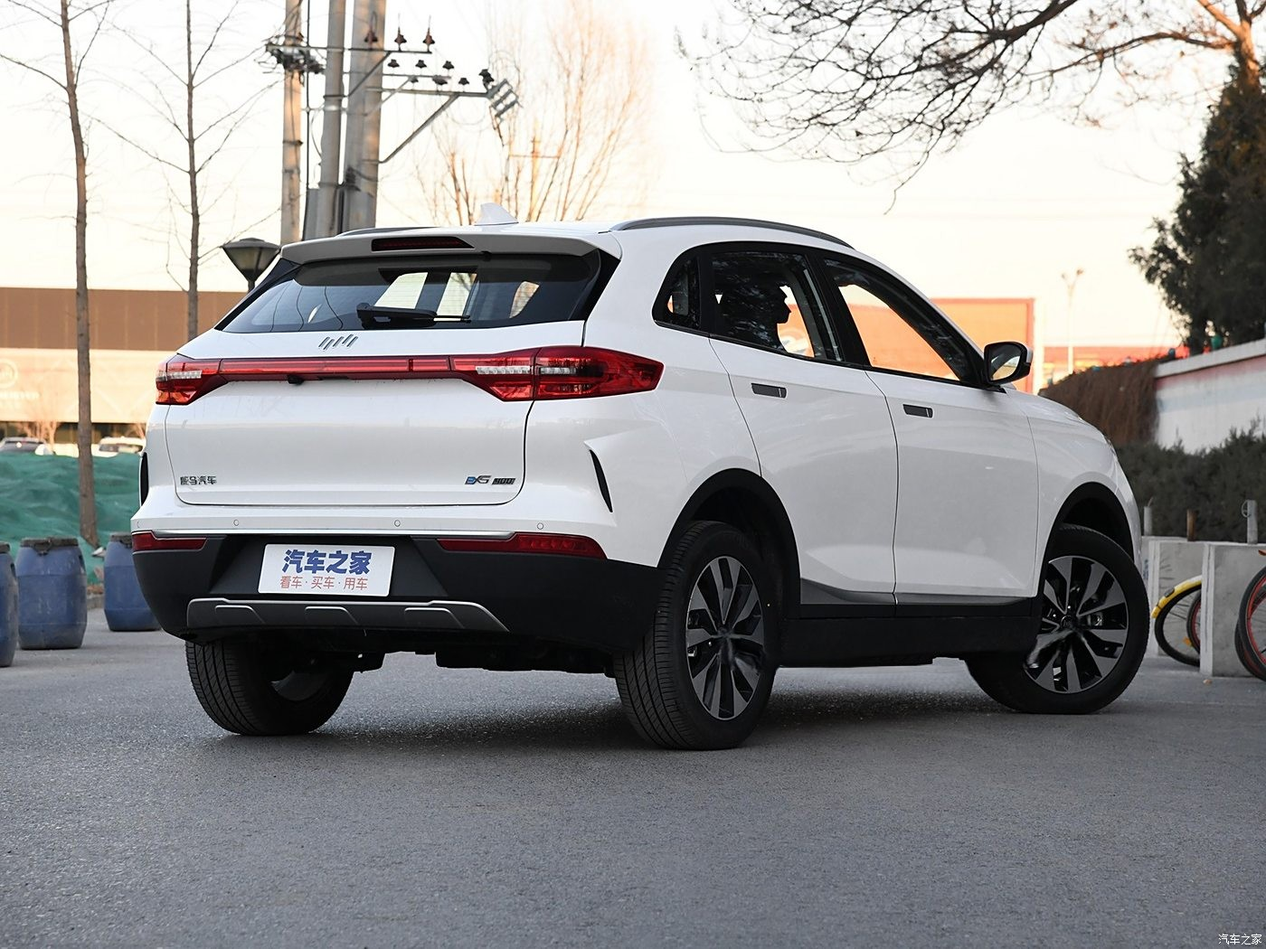WELTMEISTER: (319, 334, 358, 351)
